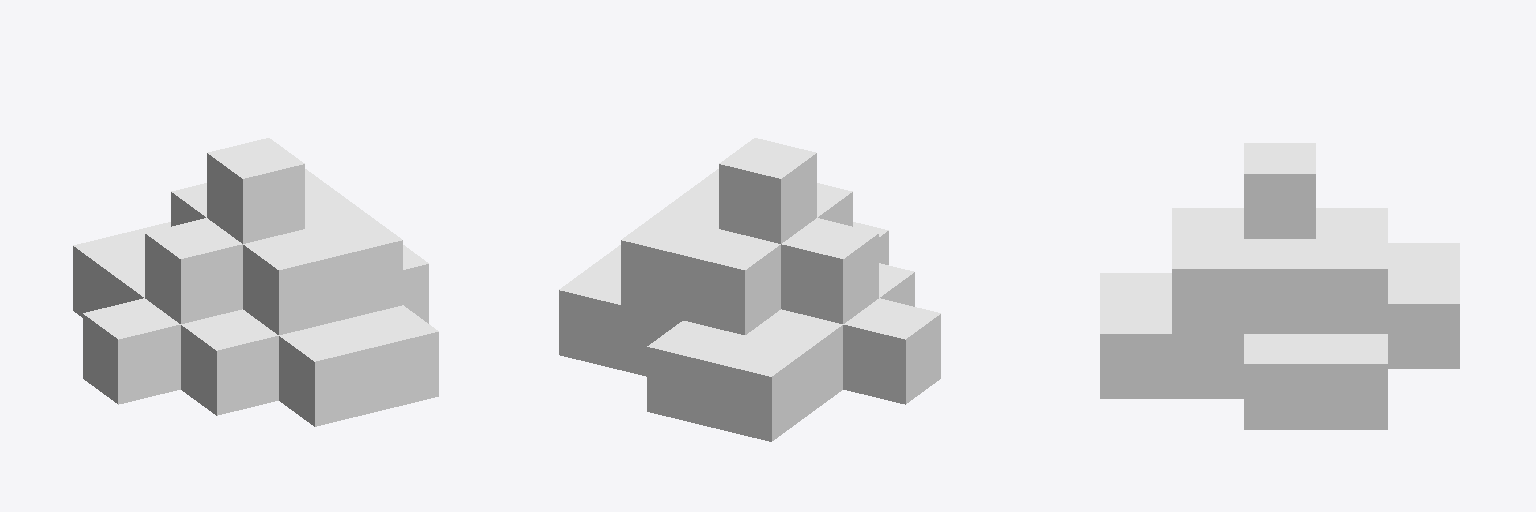
The model's file is des_rock4.obj.
3 views of the same model, side by side, from view 1: azimuth 30°, elevation 25°; view 2: azimuth 150°, elevation 25°; view 3: azimuth 270°, elevation 25° (orthographic).
Visible parts, largest first — view 1: object 1; view 2: object 1; view 3: object 1.
Boxes of the visible parts, <box> form: object 1: <box>73,138,438,426</box>; object 1: <box>559,138,940,441</box>; object 1: <box>1100,143,1459,429</box>.
Bounding box in the file's own units: 0.5 × 0.3 × 0.5.